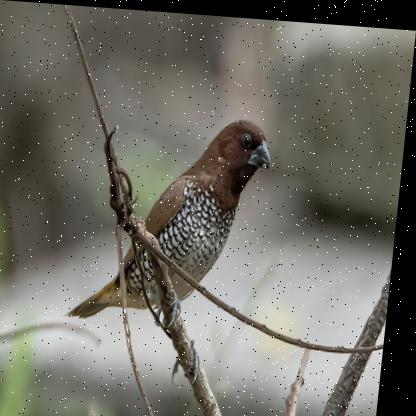Burung: (72, 107, 277, 327)
